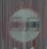No overtake: (4, 3, 46, 46)
